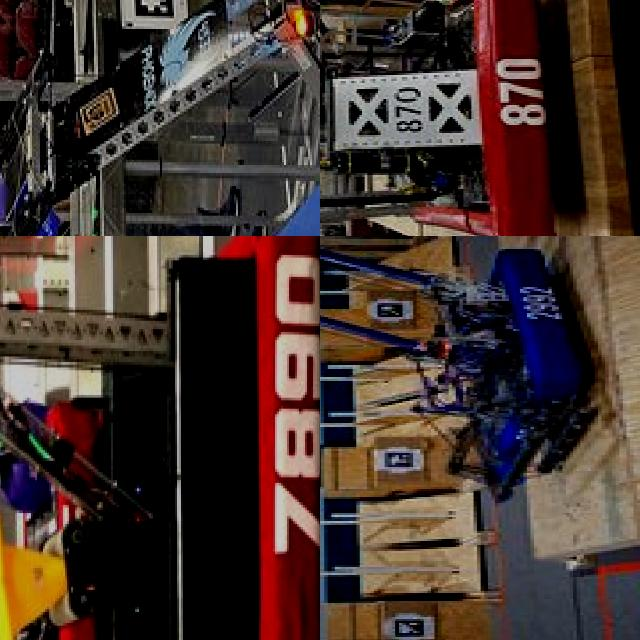FRC-Robots: (0, 236, 320, 640), (320, 236, 640, 493), (0, 0, 320, 236), (320, 0, 570, 236)
